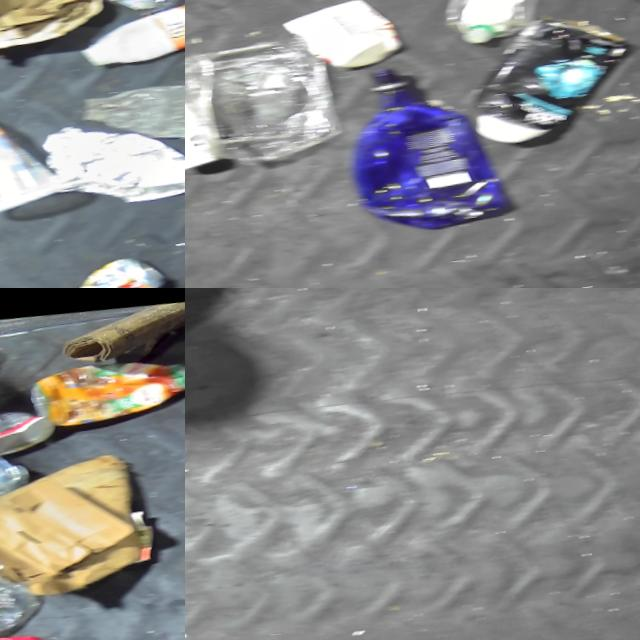can: (67, 249, 168, 288)
non_white_jug: (339, 52, 509, 240)
plastic_bottle: (72, 71, 185, 146), (432, 0, 556, 47), (23, 0, 177, 22)
